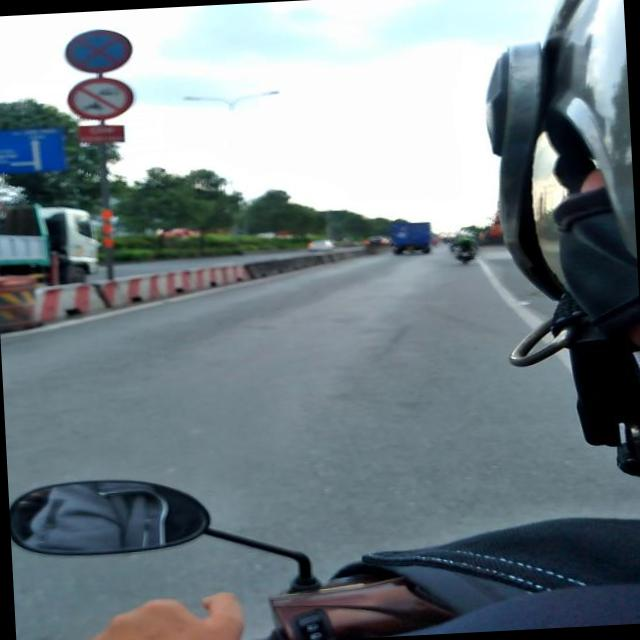P-105: (65, 72, 135, 120)
P-130: (63, 26, 136, 78)
